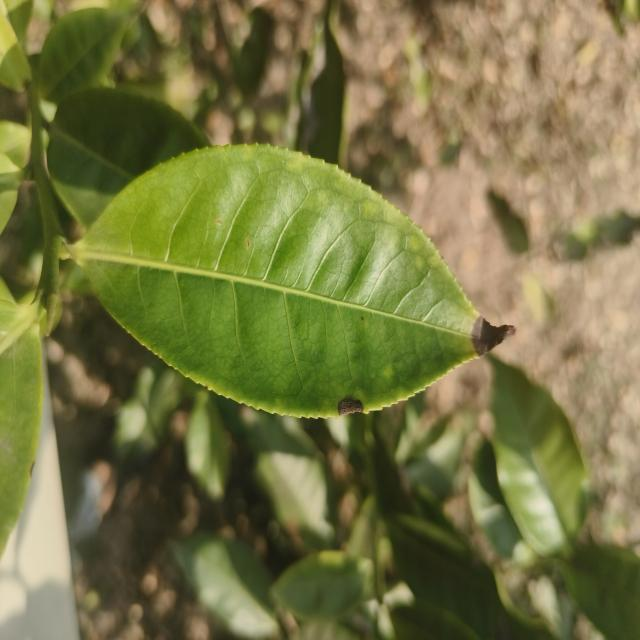Leaf: (69, 145, 504, 417), (47, 88, 207, 228), (489, 355, 588, 555), (242, 408, 334, 544), (0, 297, 43, 555), (173, 534, 277, 638), (38, 8, 128, 103), (296, 0, 344, 165), (561, 544, 640, 640), (271, 551, 373, 619), (185, 391, 229, 499)
